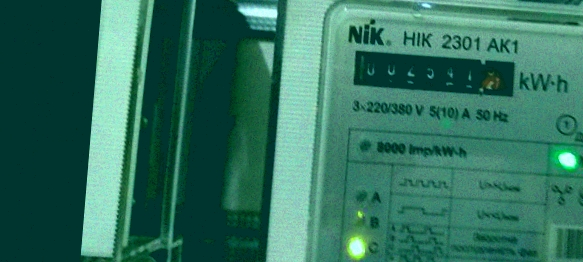0: (362, 55, 377, 77), (383, 55, 397, 77)
1: (462, 62, 474, 83)
2: (403, 57, 417, 78)
4: (443, 60, 457, 81)
5: (422, 58, 436, 81)
6: (483, 76, 495, 92)
screen: (341, 38, 526, 107)
